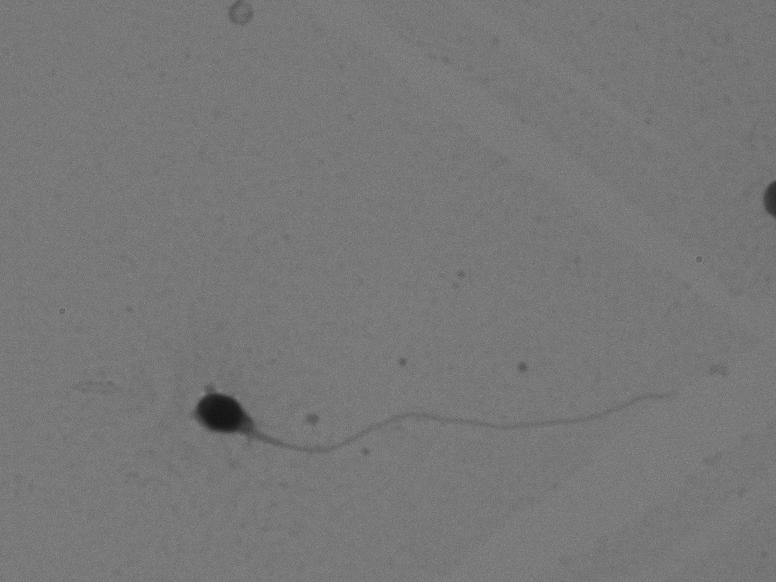Normal: (166, 312, 719, 502)
